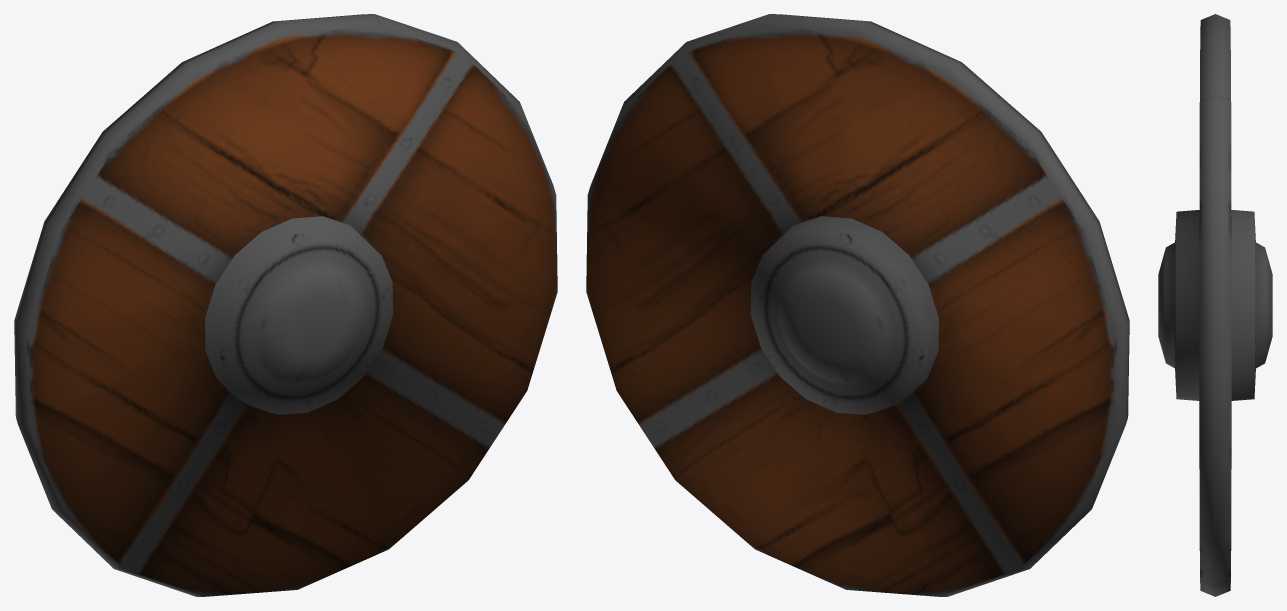
The model's file is Schild.FBX.
The picture shows the model from 3 angles, left to right: view 1: azimuth 30°, elevation 25°; view 2: azimuth 150°, elevation 25°; view 3: azimuth 270°, elevation 25°; orthographic projection. The views are drawn at different scales.
Visible parts, largest first — view 1: Object008; view 2: Object008; view 3: Object008.
Boxes of the visible parts, x1,y1,x2,y2 form: Object008: (14,14,557,596); Object008: (586,14,1129,596); Object008: (1158,14,1272,596).
Bounding box in the file's own units: 38.1 × 7.56 × 38.58.
1 material, 1 textured.
